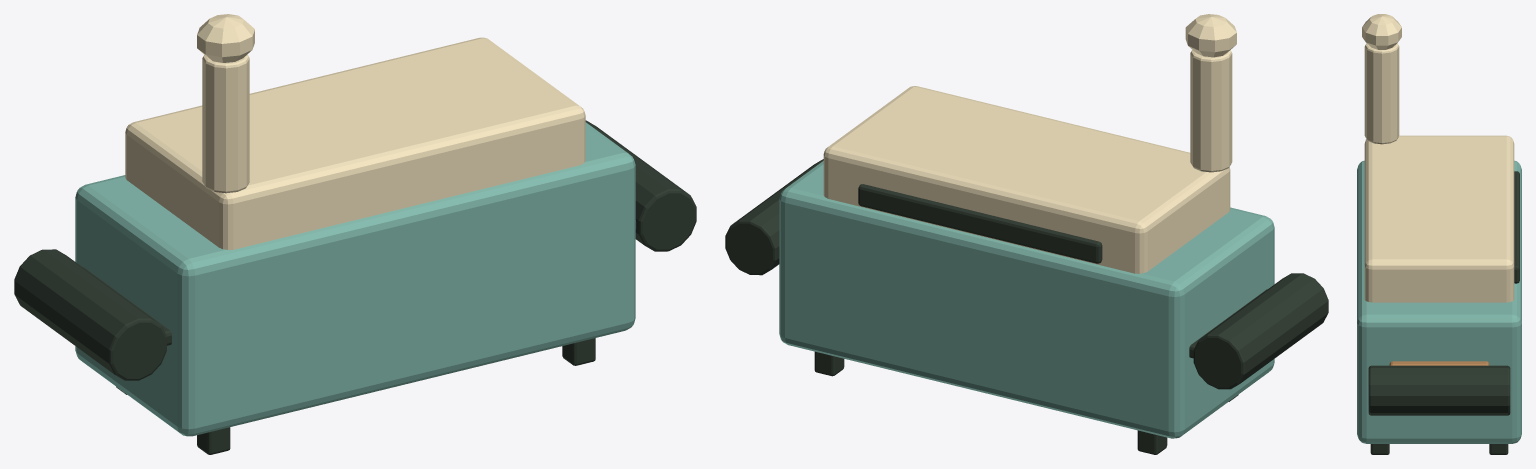
Rendered from SM_Dryer.fbx.
3 renders of one model, left to right at view 1: azimuth 30°, elevation 25°; view 2: azimuth 150°, elevation 25°; view 3: azimuth 270°, elevation 25°, orthographic. The views are drawn at different scales.
Parts seen in each view (by area): view 1: DryerMesh; view 2: DryerMesh; view 3: DryerMesh.
Part boxes in pixels (x1,y1,x2,y2): DryerMesh: (14,14,696,454); DryerMesh: (725,14,1328,454); DryerMesh: (1357,14,1521,454).
Size of the model in its own units: 2.57 by 1.79 by 0.86.
